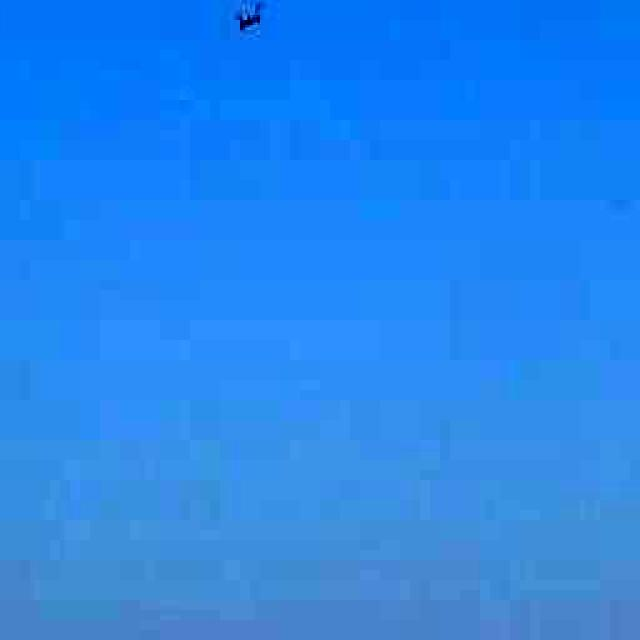bird: (215, 0, 280, 44)
